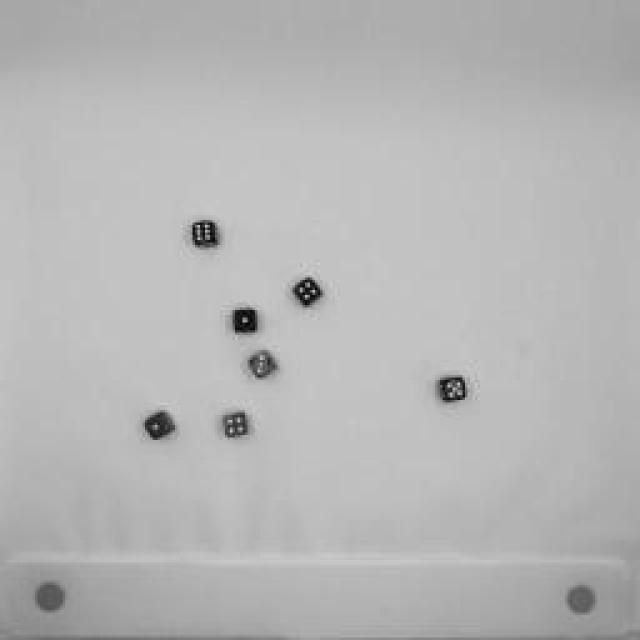dice_1: (141, 408, 179, 442), (229, 305, 261, 337)
dice_3: (244, 344, 281, 381)
dice_4: (216, 401, 259, 444), (291, 270, 329, 312)
dice_5: (430, 369, 470, 406)
dice_6: (187, 214, 225, 254)
